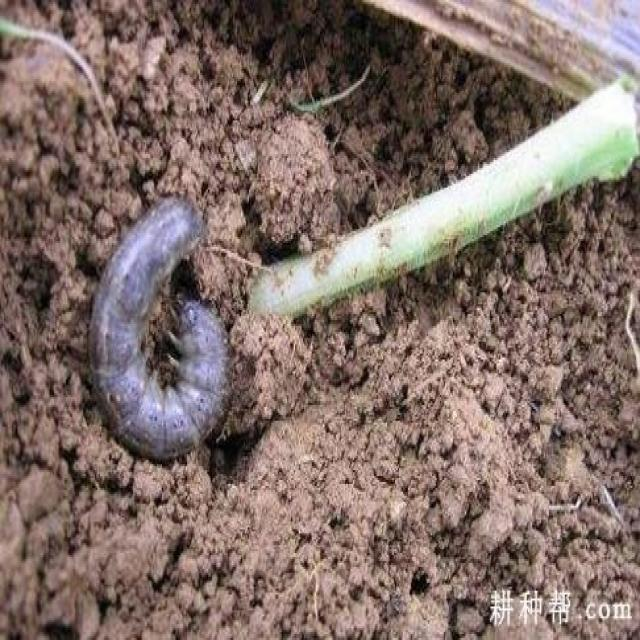black cutworm: (84, 199, 242, 452)
